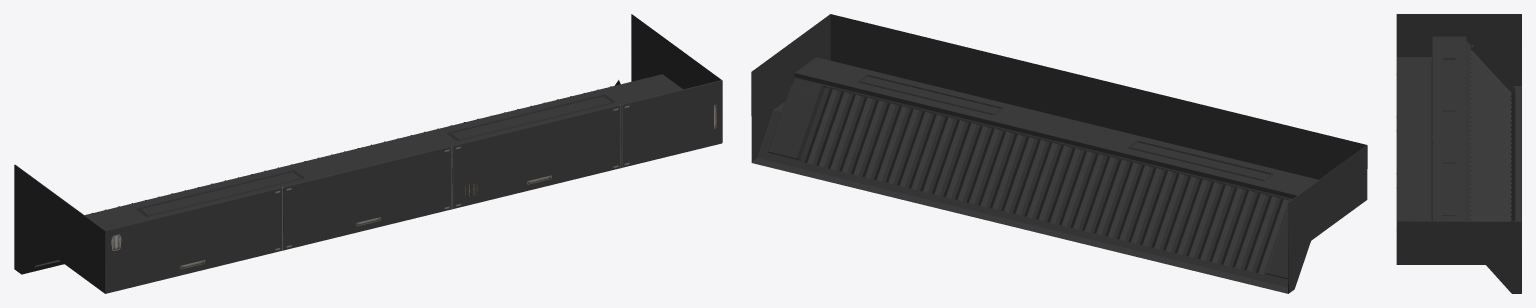
Rendered from SM_Exhaust_Hood_01.FBX.
3 renders of one model, left to right at view 1: azimuth 30°, elevation 25°; view 2: azimuth 150°, elevation 25°; view 3: azimuth 270°, elevation 25°, orthographic. The views are drawn at different scales.
Visible parts, largest first — view 1: SM_Exhaust_Hood_01_LOD0; view 2: SM_Exhaust_Hood_01_LOD0; view 3: SM_Exhaust_Hood_01_LOD0.
Part boxes in pixels (box(x1,y1,x2,y2)): SM_Exhaust_Hood_01_LOD0: box(14, 14, 722, 293); SM_Exhaust_Hood_01_LOD0: box(751, 14, 1367, 293); SM_Exhaust_Hood_01_LOD0: box(1396, 14, 1521, 293).
Size of what is drawn, in the model's own units: 510 by 130 by 83.16.
